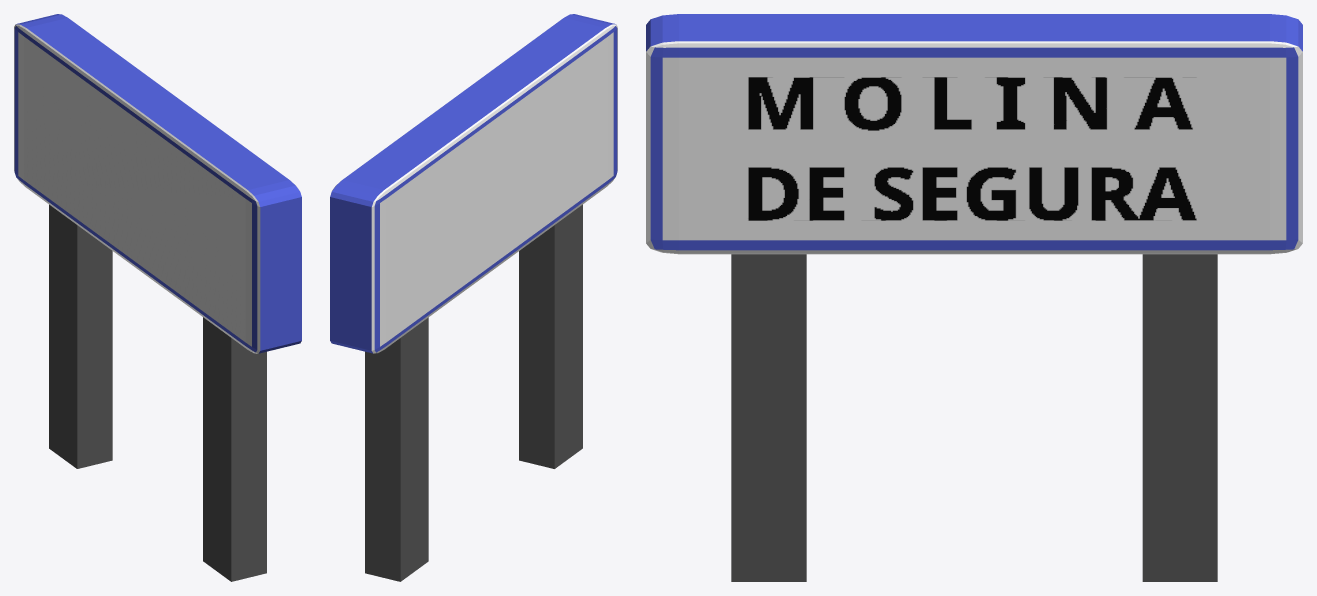
File: MolinaDeSegura.fbx
3 views of the same model, side by side, from view 1: azimuth 30°, elevation 25°; view 2: azimuth 150°, elevation 25°; view 3: azimuth 270°, elevation 25° (orthographic). The views are drawn at different scales.
Parts seen in each view (by area): view 1: Cube; view 2: Cube; view 3: Cube.
Boxes of the visible parts, x1,y1,x2,y2 form: Cube: [14, 14, 301, 581]; Cube: [330, 14, 617, 581]; Cube: [646, 14, 1302, 581].
Bounding box in the file's own units: 26.8 × 225 × 246.
